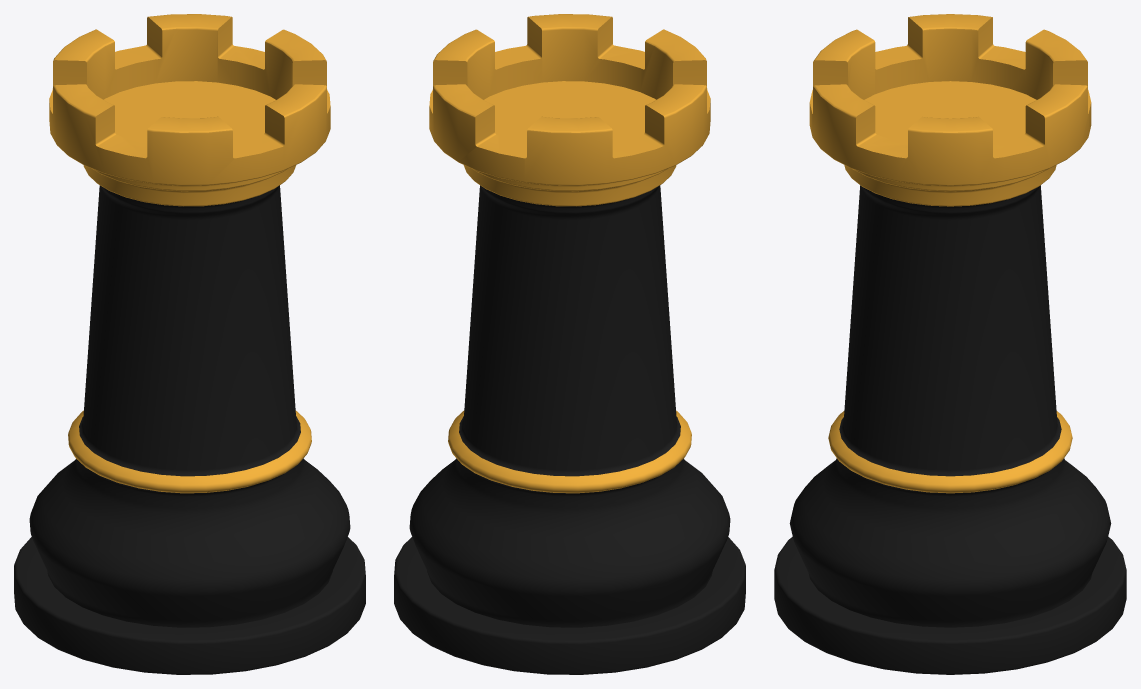
Rendered from gercek6_r_b.glb.
The picture shows the model from 3 angles, left to right: view 1: azimuth 30°, elevation 25°; view 2: azimuth 150°, elevation 25°; view 3: azimuth 270°, elevation 25°; orthographic projection.
Parts seen in each view (by area): view 1: Circle.026; view 2: Circle.026; view 3: Circle.026.
Part boxes in pixels (x1,y1,x2,y2): Circle.026: [14, 14, 365, 674]; Circle.026: [394, 14, 745, 674]; Circle.026: [774, 14, 1126, 674].
Size of the model in its own units: 31.8 by 52.69 by 31.8.
